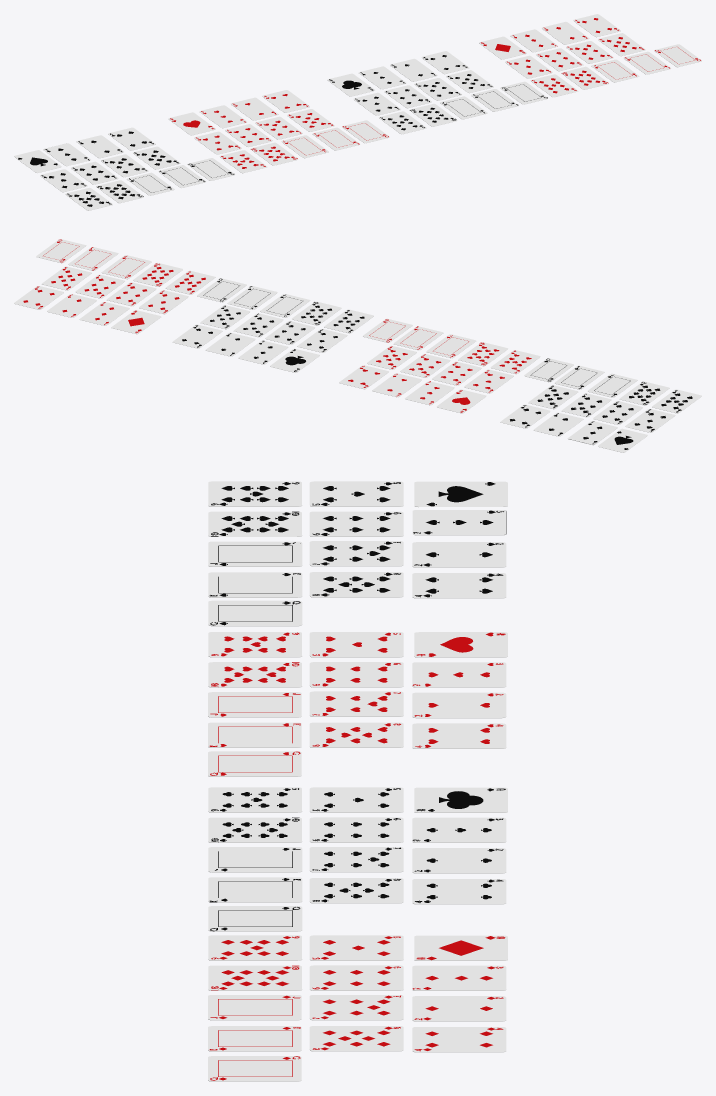
The model's file is CardsZ.fbx.
3 views of the same model, one above another, from view 1: azimuth 30°, elevation 25°; view 2: azimuth 150°, elevation 25°; view 3: azimuth 270°, elevation 25° (orthographic). The views are drawn at different scales.
Parts seen in each view (by area): view 1: H10.002, Ace Clubs.001, Clubs4.001, Clubs9.001, ClubsKing.002, Dking.001, Hqueen.001, Spadesjack.001, ACEHEARTS.001, Clubs10.001, Clubs7.001, D2.001 (+40 smaller); view 2: ClubsKing.002, H3.002, Hjack.002, Spades10.001, Spades4.001, Spades9.001, Djack.001, H6.002, Hqueen.001, Spades3.001, Clubs2.001, Clubs3.001 (+40 smaller); view 3: SpadesKing.001, H3.002, H2.002, Spades2.001, Clubs2.001, ClubsQueen.002, D3.001, SpadesQueen.001, Clubs5.001, Clubs8.001, ClubsKing.002, Clubsjack.002 (+40 smaller).
Boxes of the visible parts, x1=… form: H10.002: x1=250, y1=142, x2=298, y2=165; Ace Clubs.001: x1=327, y1=73, x2=375, y2=96; Clubs4.001: x1=421, y1=51, x2=469, y2=74; Clubs9.001: x1=378, y1=111, x2=426, y2=134; ClubsKing.002: x1=500, y1=81, x2=547, y2=104; Dking.001: x1=654, y1=44, x2=701, y2=67; Hqueen.001: x1=312, y1=127, x2=360, y2=150; Spadesjack.001: x1=127, y1=172, x2=174, y2=195; ACEHEARTS.001: x1=168, y1=112, x2=215, y2=135; Clubs10.001: x1=409, y1=103, x2=457, y2=126; Clubs7.001: x1=414, y1=78, x2=461, y2=100; D2.001: x1=510, y1=29, x2=557, y2=52; ClubsKing.002: x1=197, y1=278, x2=246, y2=302; H3.002: x1=372, y1=373, x2=421, y2=397; Hjack.002: x1=426, y1=334, x2=475, y2=358; Spades10.001: x1=619, y1=381, x2=669, y2=405; Spades4.001: x1=500, y1=404, x2=550, y2=428; Spades9.001: x1=652, y1=389, x2=701, y2=413; Djack.001: x1=101, y1=255, x2=151, y2=279; H6.002: x1=432, y1=361, x2=481, y2=385; Hqueen.001: x1=393, y1=326, x2=443, y2=350; Spades3.001: x1=568, y1=421, x2=617, y2=445; Clubs2.001: x1=205, y1=332, x2=255, y2=356; Clubs3.001: x1=238, y1=340, x2=288, y2=364; SpadesKing.001: x1=208, y1=600, x2=302, y2=626; H3.002: x1=412, y1=692, x2=506, y2=718; H2.002: x1=412, y1=662, x2=506, y2=687; Spades2.001: x1=412, y1=542, x2=506, y2=567; Clubs2.001: x1=412, y1=848, x2=506, y2=873; ClubsQueen.002: x1=208, y1=877, x2=302, y2=902; D3.001: x1=412, y1=996, x2=506, y2=1021; SpadesQueen.001: x1=208, y1=572, x2=302, y2=597; Clubs5.001: x1=309, y1=787, x2=403, y2=812; Clubs8.001: x1=309, y1=878, x2=403, y2=903; ClubsKing.002: x1=208, y1=906, x2=302, y2=931; Clubsjack.002: x1=208, y1=847, x2=302, y2=872.
Size of the model in its own units: 133 by 0.0606 by 28.17.
